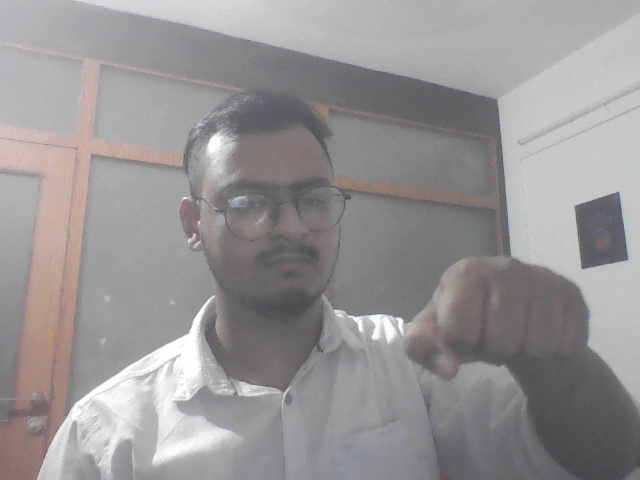YES: (396, 252, 596, 387)
